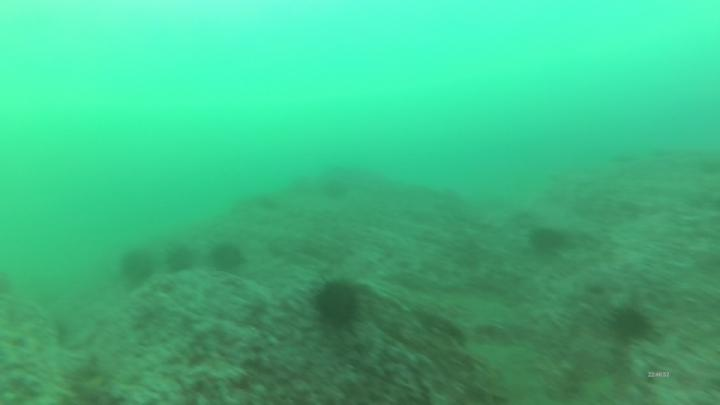echinus: (307, 272, 366, 336), (606, 301, 659, 348), (118, 248, 158, 287), (526, 224, 569, 259), (209, 241, 249, 275), (162, 245, 200, 277)
